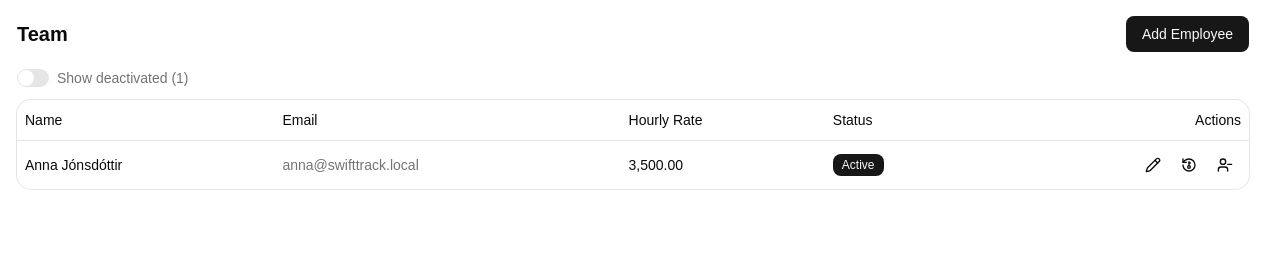
Test: TeamPage — the filter and its count › reveals them when switched on
Click the switch: (33, 78) [17,69,49,87]
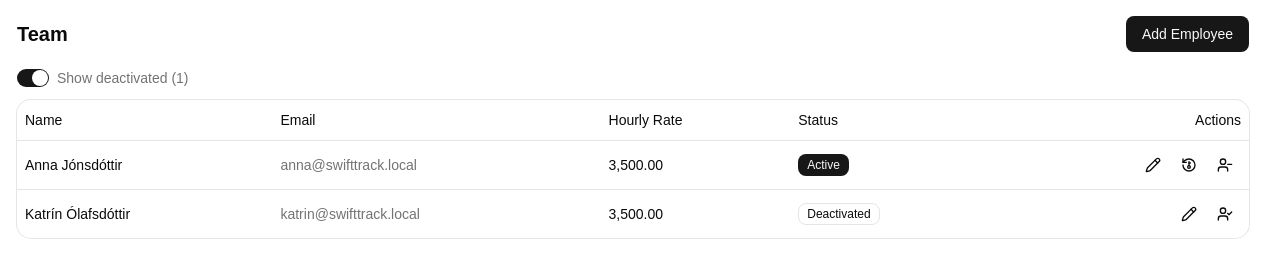
Expected: the text "Katrín Ólafsdóttir" is shown, [17,189,272,238]
